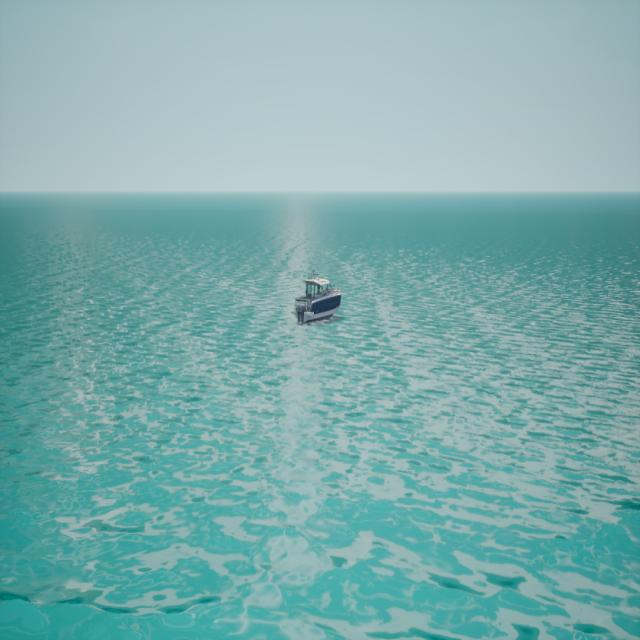ship: (294, 272, 341, 326)
